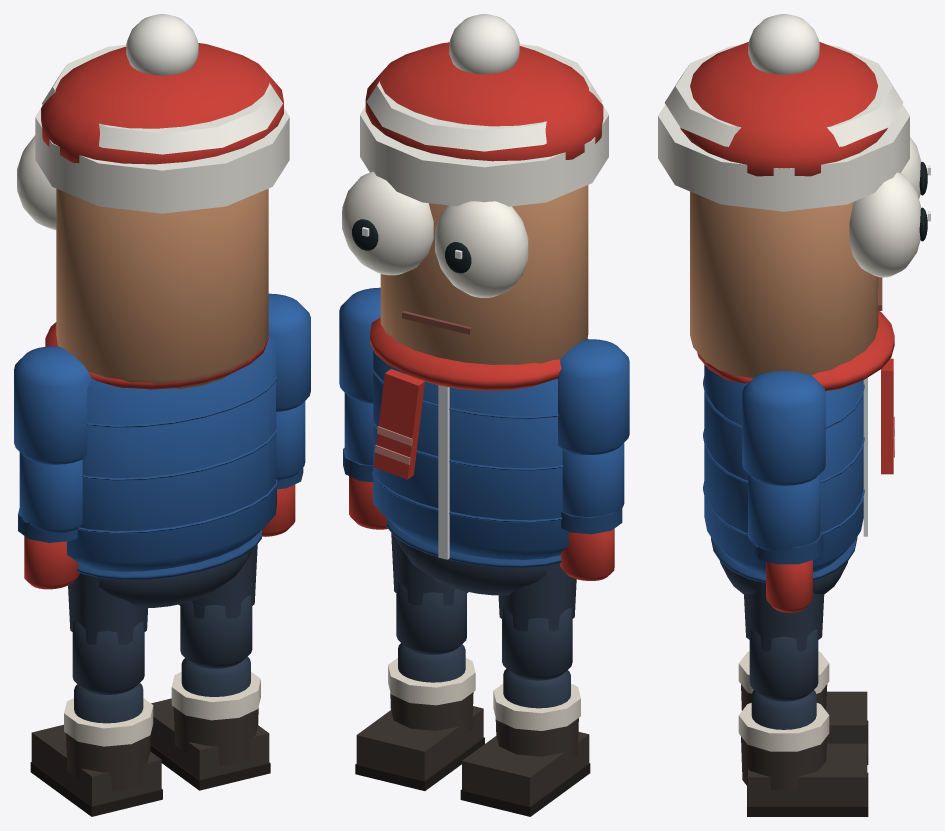
Rendered from spectator_winter_1.glb.
3 renders of one model, left to right at view 1: azimuth 30°, elevation 25°; view 2: azimuth 150°, elevation 25°; view 3: azimuth 270°, elevation 25°, orthographic. The views are drawn at different scales.
Parts seen in each view (by area): view 1: Head, RallySpectator, LeftShin, RightShin, LeftArm, LeftLeg, LeftForearm, RightLeg, RightArm, RightForearm; view 2: Head, RallySpectator, LeftShin, RightShin, LeftArm, LeftForearm, LeftLeg, RightLeg, RightArm, RightForearm; view 3: Head, RallySpectator, RightShin, RightArm, RightForearm, RightLeg, LeftShin.
Boxes of the visible parts, left/top/right/bottom form: Head: left=17, top=14, right=289, bottom=388; RallySpectator: left=45, top=322, right=277, bottom=608; LeftShin: left=30, top=683, right=162, bottom=816; RightShin: left=150, top=656, right=270, bottom=790; LeftArm: left=14, top=346, right=91, bottom=464; LeftLeg: left=68, top=573, right=147, bottom=694; LeftForearm: left=18, top=452, right=82, bottom=589; RightLeg: left=178, top=544, right=257, bottom=668; RightArm: left=268, top=293, right=310, bottom=411; RightForearm: left=262, top=401, right=305, bottom=536; Head: left=342, top=14, right=608, bottom=364; RallySpectator: left=370, top=317, right=587, bottom=595; LeftShin: left=460, top=669, right=590, bottom=816; RightShin: left=355, top=643, right=484, bottom=790; LeftArm: left=557, top=339, right=629, bottom=455; LeftForearm: left=560, top=443, right=624, bottom=580; LeftLeg: left=498, top=563, right=576, bottom=680; RightLeg: left=391, top=533, right=468, bottom=654; RightArm: left=339, top=287, right=380, bottom=403; RightForearm: left=343, top=393, right=387, bottom=529; Head: left=658, top=14, right=930, bottom=378; RallySpectator: left=697, top=311, right=894, bottom=594; RightShin: left=738, top=690, right=868, bottom=816; RightArm: left=742, top=371, right=825, bottom=485; RightForearm: left=748, top=474, right=823, bottom=612; RightLeg: left=744, top=581, right=824, bottom=701; LeftShin: left=738, top=651, right=868, bottom=764.
Size of the model in its own units: 0.9 by 2.3 by 0.7535.
